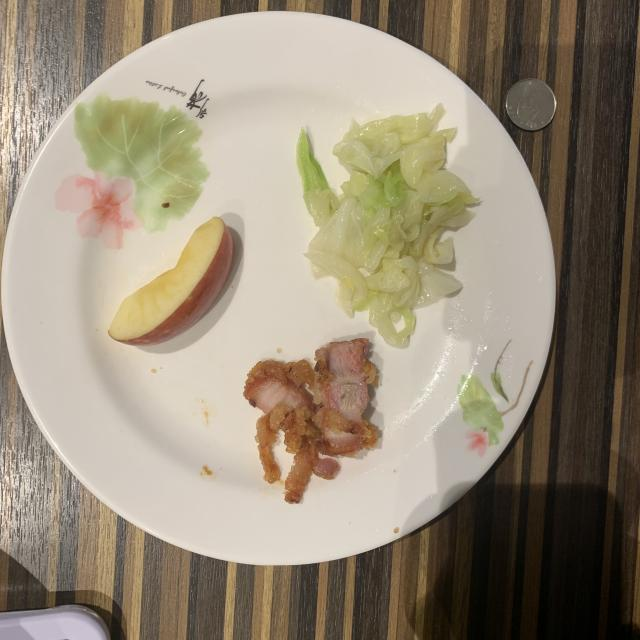apple -sliced-: (109, 218, 234, 345)
cabbage: (298, 105, 479, 348)
coin: (506, 79, 556, 131)
red grilled pork: (244, 339, 378, 504)
